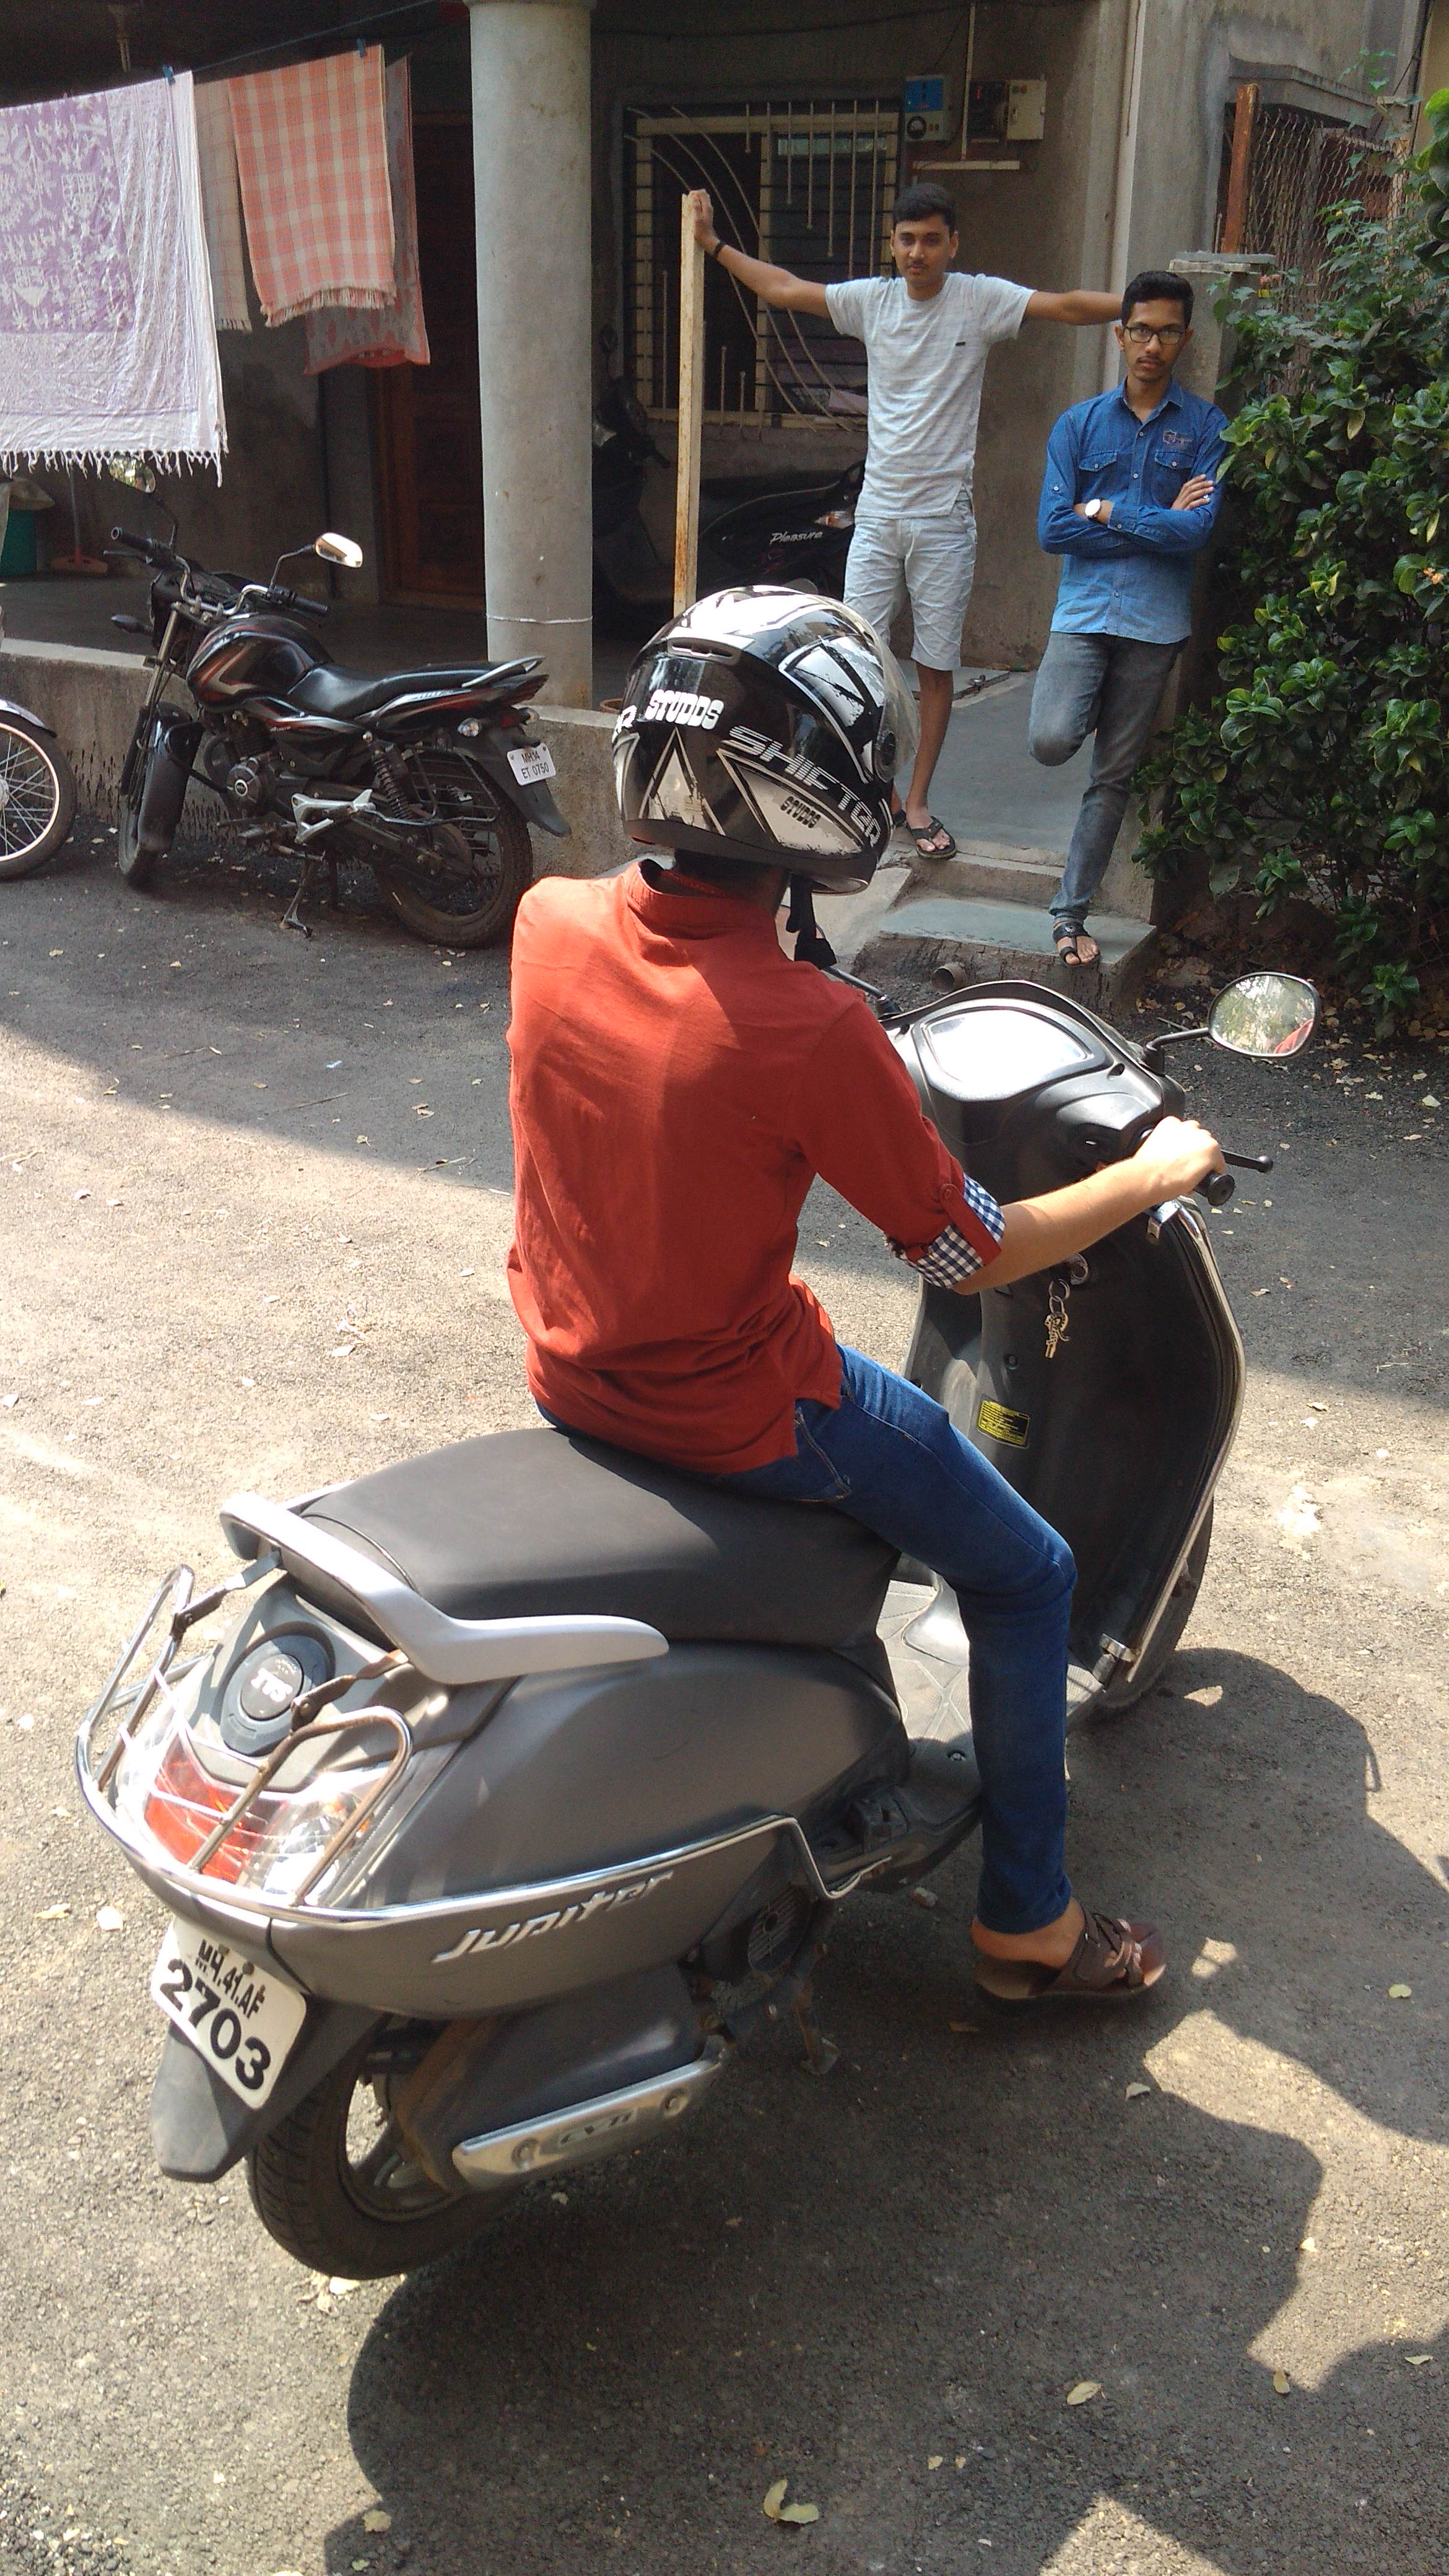helmet: (280, 586, 1361, 2105)
